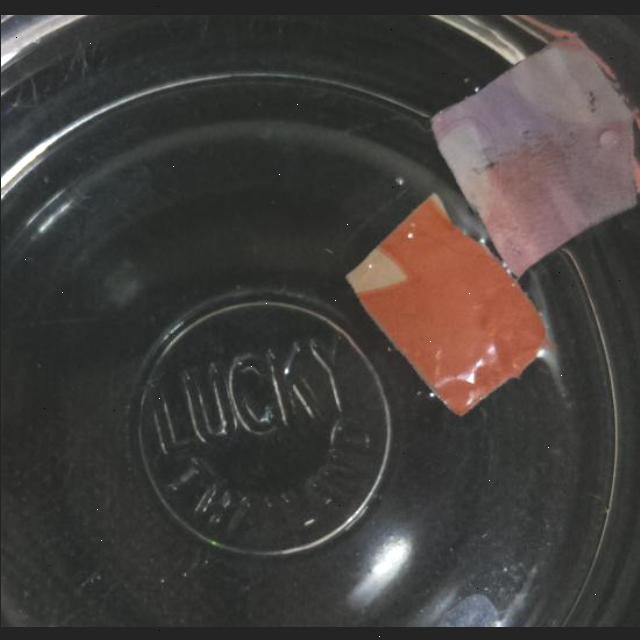Fragment: (429, 33, 640, 276), (345, 195, 549, 418)
